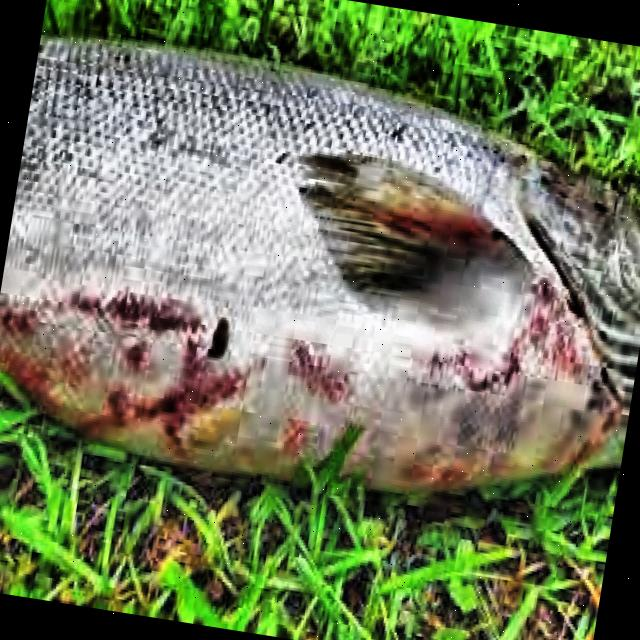mild_red: (0, 35, 620, 486)
